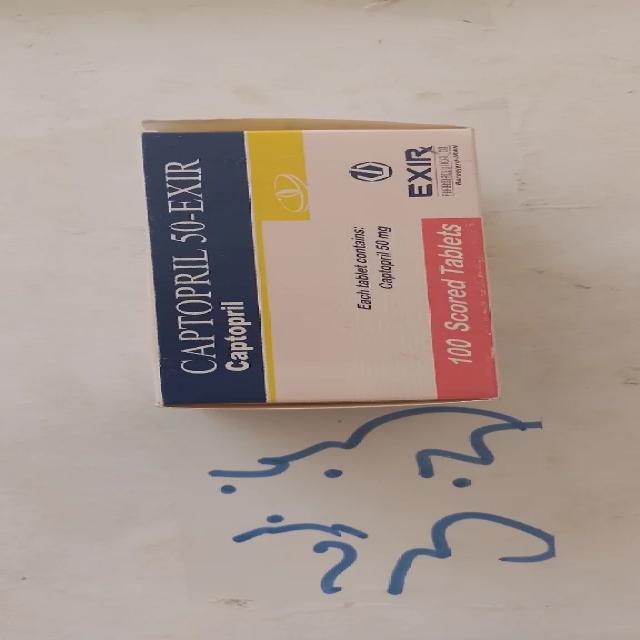drug-name: (161, 157, 221, 377)
